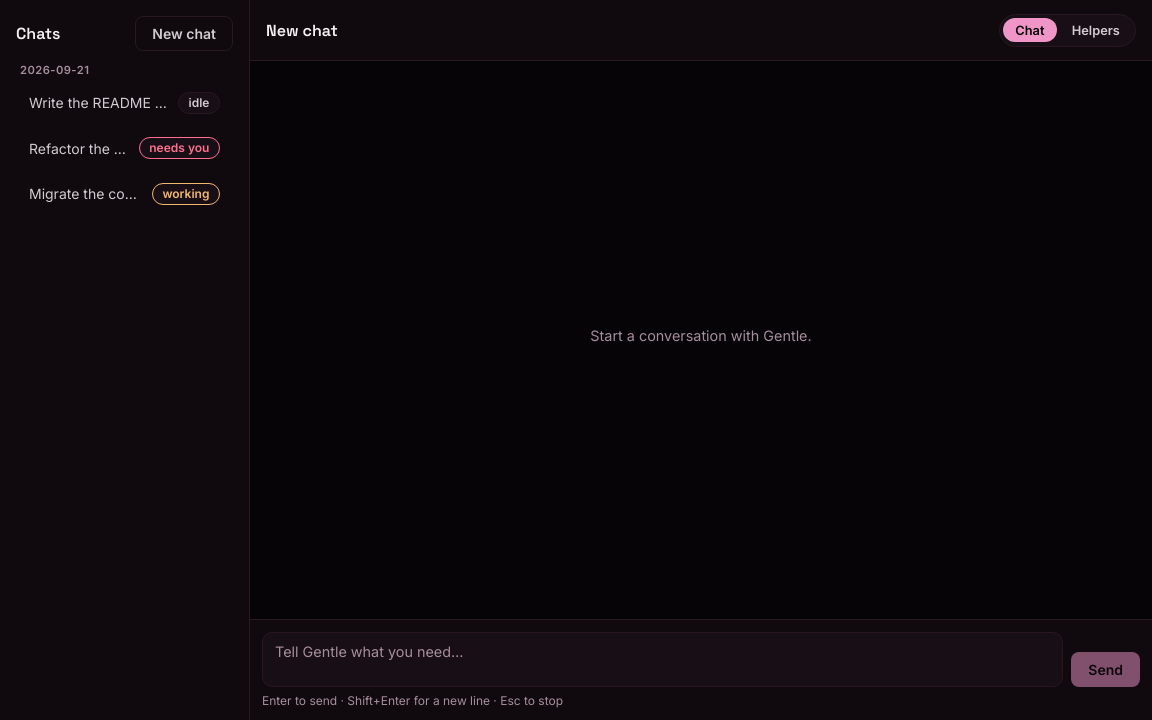
Test: App › selecting a sidebar chat updates the conversation header title
Click the button "Write the README intro idle".
click(124, 103)  # box 16,81 -> 233,124
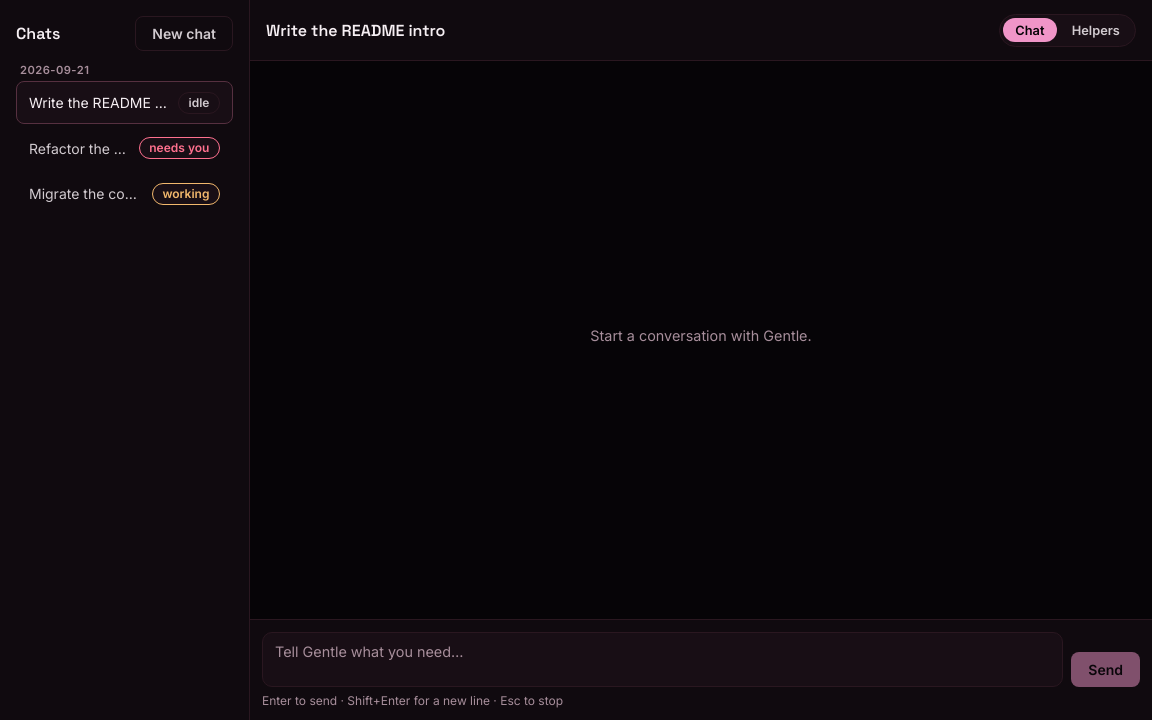
Check: the heading "Write the README intro" is shown, box 266,20 -> 445,41
